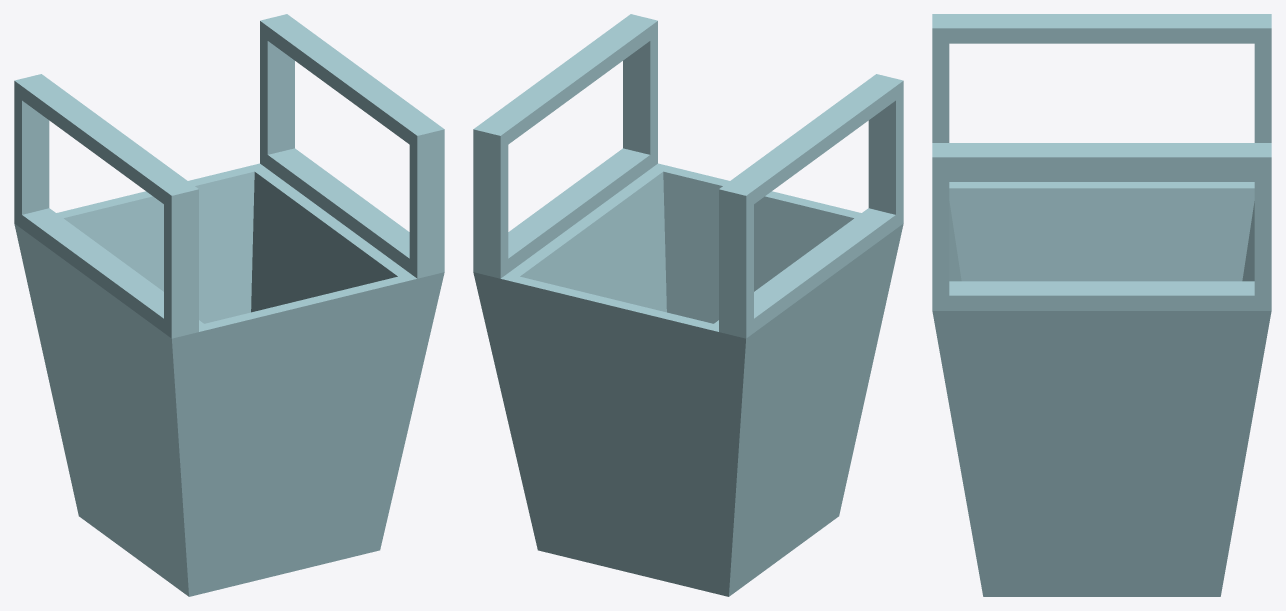
The model's file is Bag.fbx.
3 views of the same model, side by side, from view 1: azimuth 30°, elevation 25°; view 2: azimuth 150°, elevation 25°; view 3: azimuth 270°, elevation 25° (orthographic). The views are drawn at different scales.
Parts seen in each view (by area): view 1: Bag; view 2: Bag; view 3: Bag.
Part boxes in pixels (x1,y1,x2,y2): Bag: [14, 14, 444, 596]; Bag: [473, 14, 903, 596]; Bag: [932, 14, 1271, 596].
Size of the model in its own units: 2 by 3 by 2.
